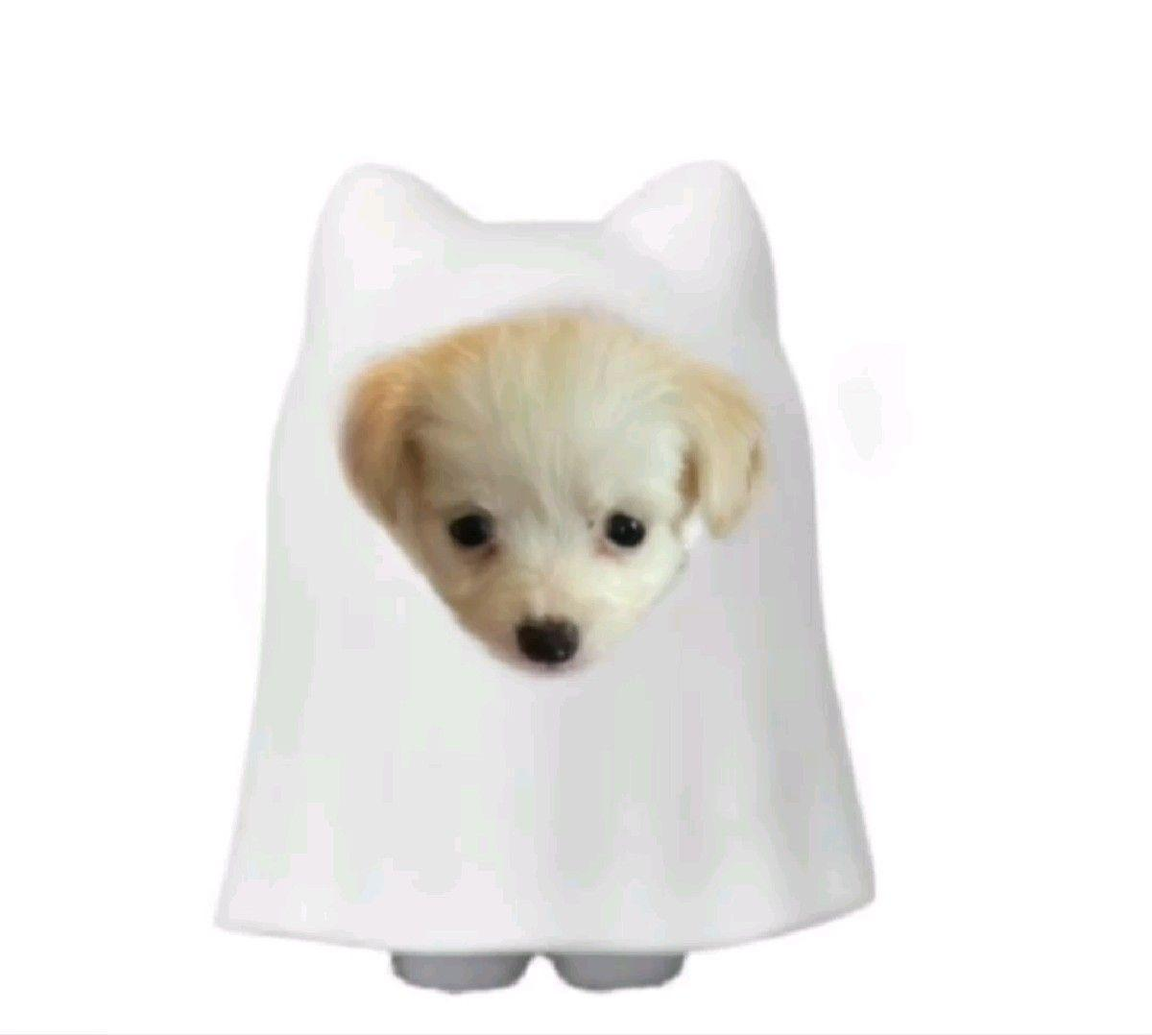puppy-dog: (335, 309, 769, 678)
